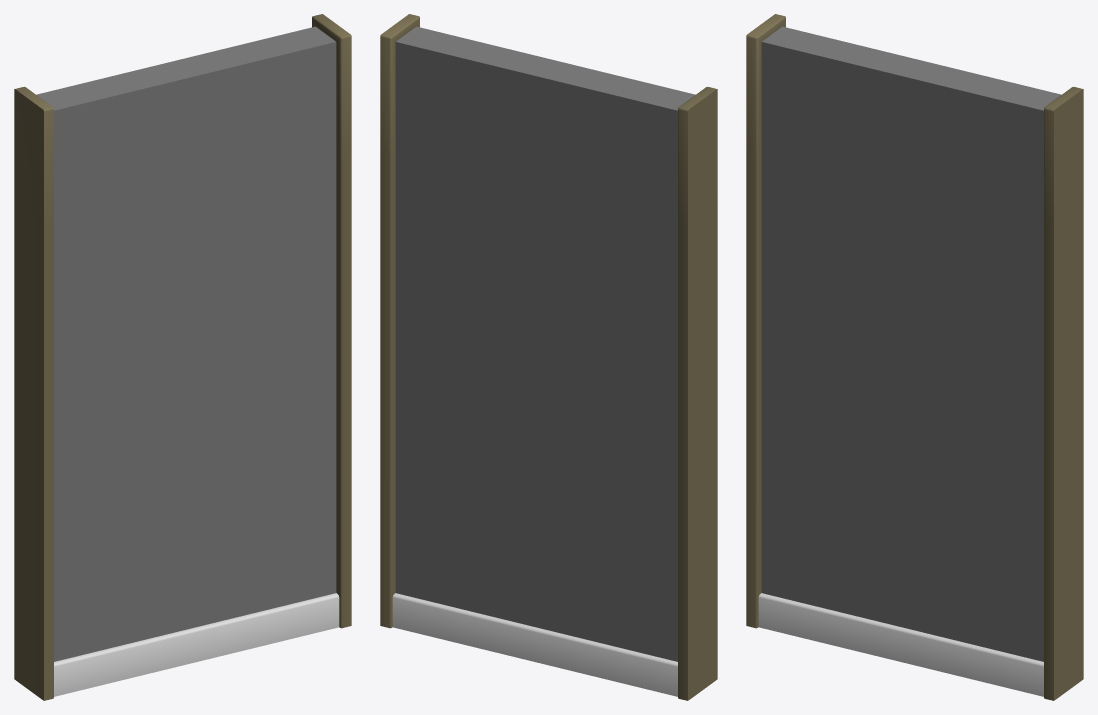
Rendered from ConcreteWall.glb.
The picture shows the model from 3 angles, left to right: view 1: azimuth 30°, elevation 25°; view 2: azimuth 150°, elevation 25°; view 3: azimuth 330°, elevation 25°; orthographic projection.
Visible parts, largest first — view 1: Wall; view 2: Wall; view 3: Wall.
Part boxes in pixels (<box>): Wall: <box>14,14,351,700</box>; Wall: <box>380,14,717,700</box>; Wall: <box>746,14,1083,700</box>.
Size of the model in its own units: 108 by 198 by 18.12.
